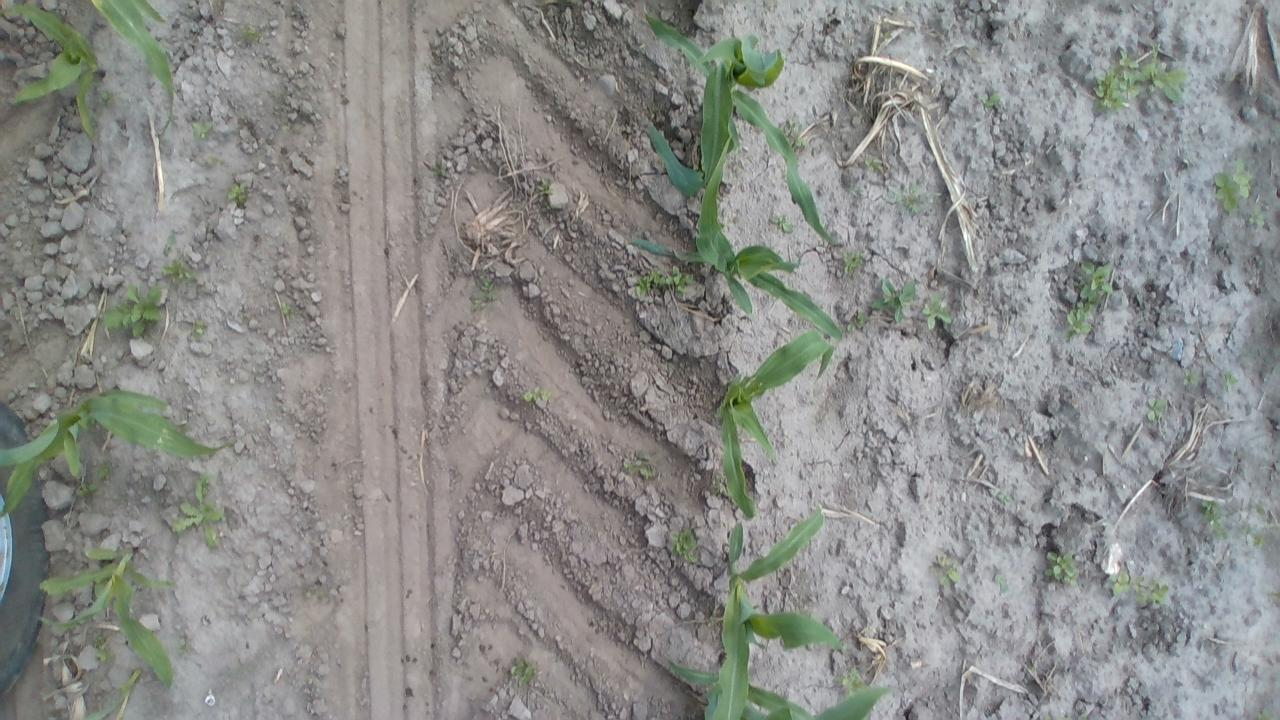Maize: (649, 9, 840, 252), (630, 139, 845, 342), (0, 386, 238, 516), (704, 505, 846, 720), (718, 326, 834, 525), (33, 540, 173, 690), (0, 0, 107, 144), (666, 656, 893, 720), (92, 0, 176, 136), (76, 669, 146, 720)
Weeds: (170, 470, 227, 551), (1118, 44, 1190, 103), (101, 283, 162, 336), (1211, 156, 1254, 214), (872, 278, 918, 324), (1091, 64, 1126, 112), (649, 265, 694, 294), (1044, 551, 1080, 587), (1078, 262, 1112, 300), (893, 185, 937, 214), (1064, 300, 1096, 338), (1131, 575, 1171, 605), (922, 290, 952, 330), (668, 526, 698, 564), (1200, 500, 1228, 538), (780, 117, 810, 150), (621, 450, 656, 478), (932, 554, 962, 586), (162, 258, 198, 284), (838, 667, 866, 699), (510, 657, 536, 686), (472, 284, 498, 309), (843, 250, 864, 276), (1146, 396, 1167, 421), (226, 182, 248, 205), (1108, 572, 1130, 595), (190, 120, 214, 140), (848, 308, 868, 332), (522, 387, 552, 403), (768, 214, 794, 232), (94, 646, 116, 666), (95, 86, 116, 106), (1248, 207, 1266, 229), (95, 460, 114, 480), (240, 26, 260, 44), (980, 92, 1002, 108), (191, 319, 207, 339), (1221, 372, 1237, 391), (75, 484, 100, 496), (996, 574, 1011, 594), (634, 276, 650, 294), (535, 180, 553, 196), (1182, 369, 1200, 384), (1041, 714, 1086, 720), (94, 578, 108, 596), (1256, 708, 1276, 720), (162, 236, 174, 255), (864, 158, 882, 170), (995, 492, 1013, 504), (691, 164, 706, 178), (428, 164, 444, 177), (1253, 534, 1267, 548), (281, 302, 291, 318), (176, 644, 188, 657), (1255, 503, 1265, 518), (878, 30, 892, 40), (206, 154, 218, 165), (92, 634, 105, 644), (1242, 524, 1253, 534), (282, 124, 292, 133), (1272, 591, 1280, 600), (304, 590, 312, 597)
